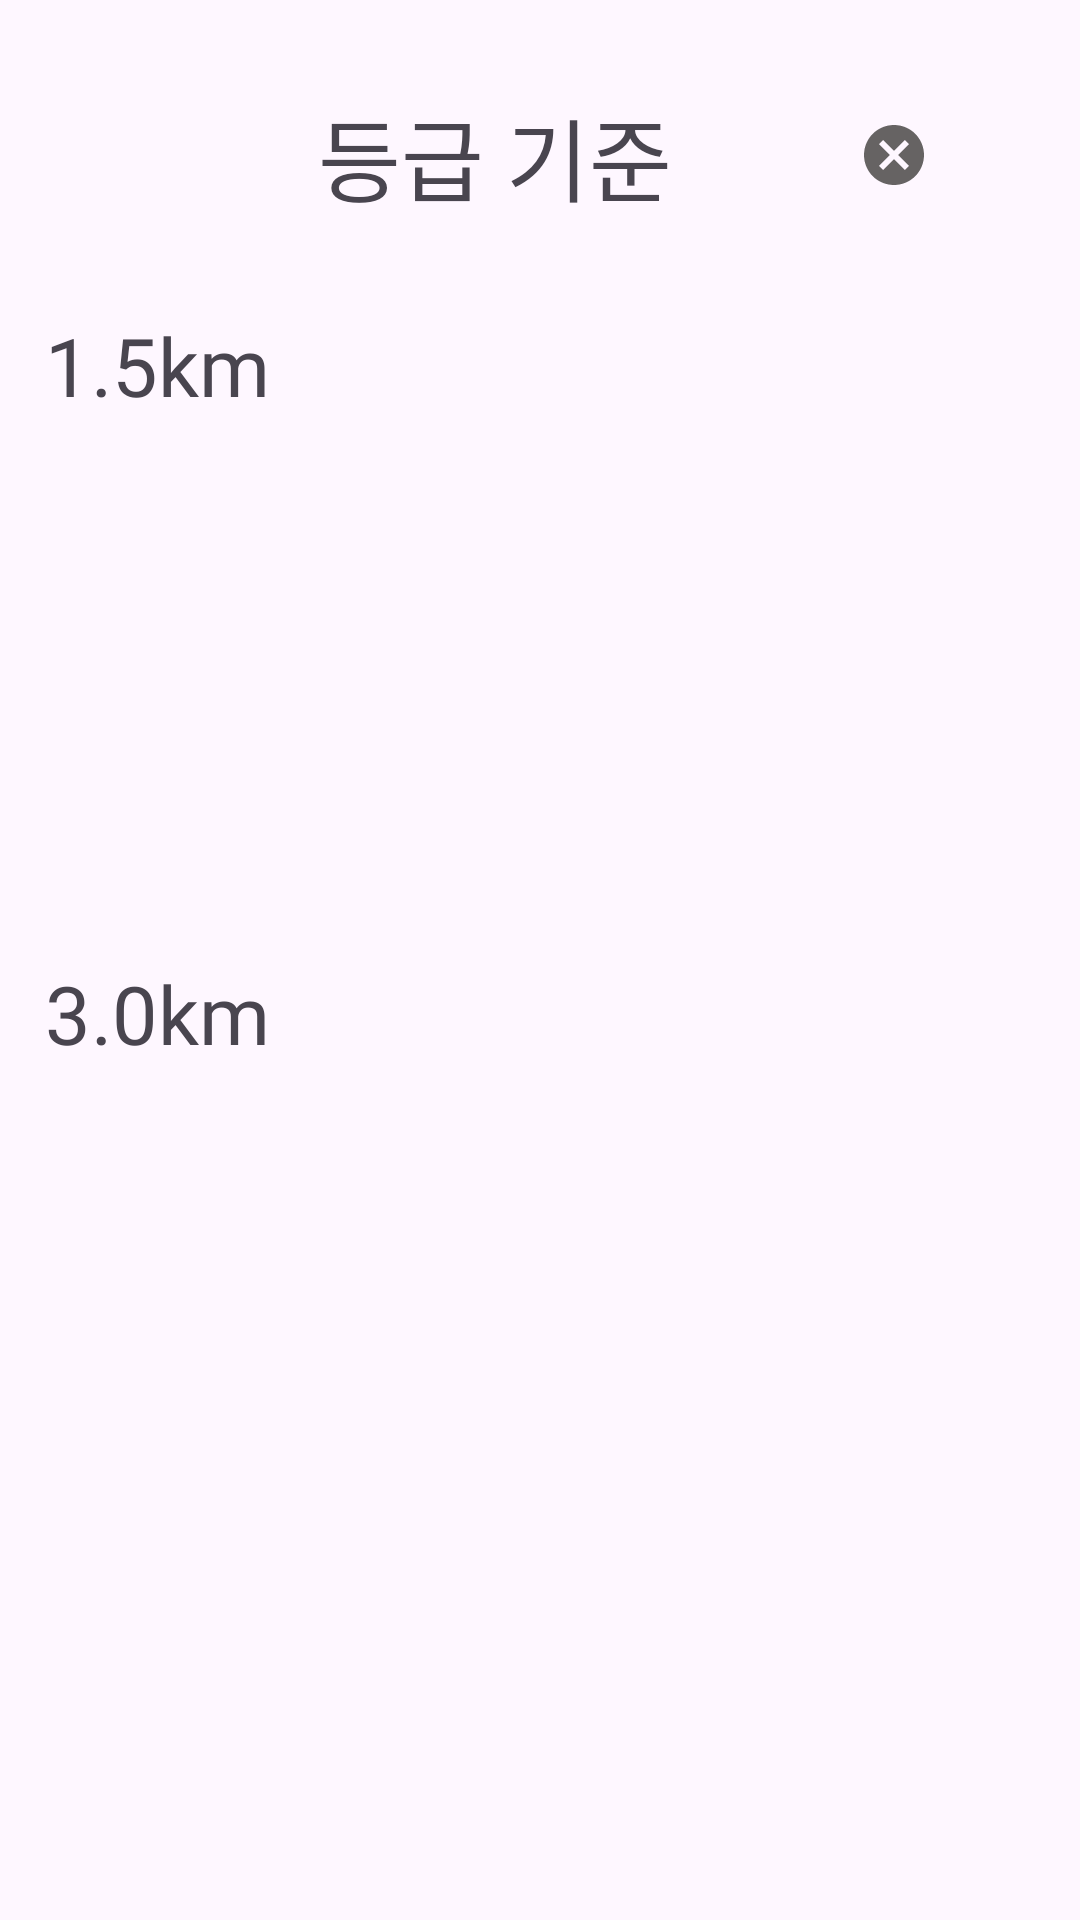

Icon bounding boxes for this 1080w x 1920h phone screenshot, format (x1, y1, x2, y2):
cancel: (864, 125, 924, 185)
